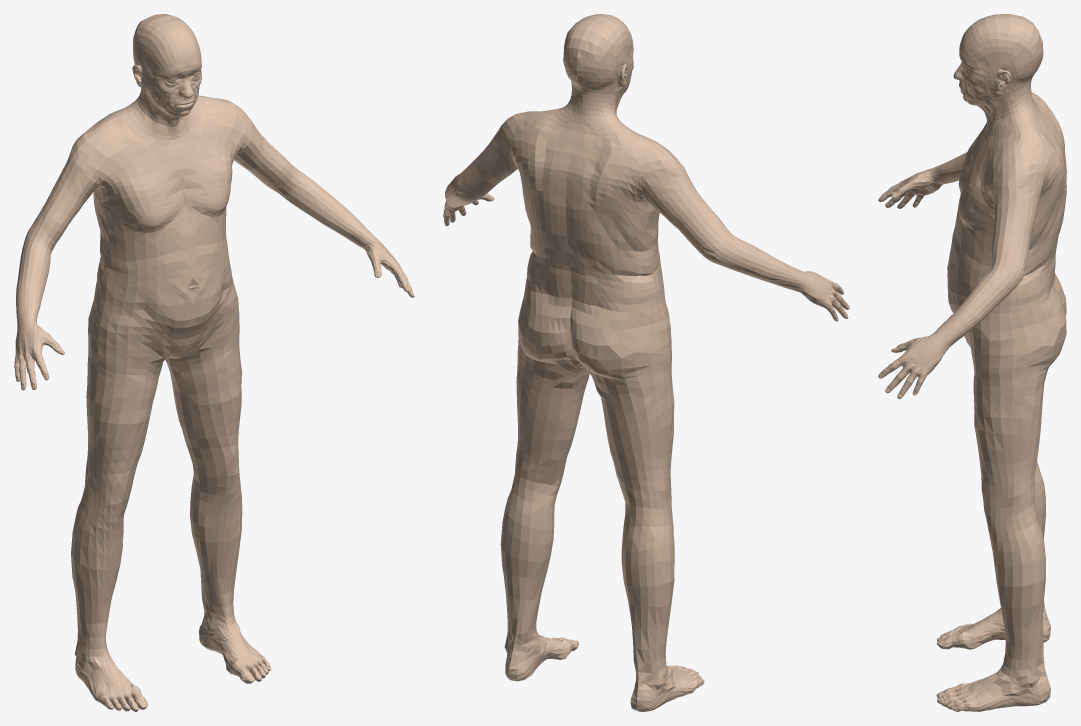
File: male-elder-heavy-toned.glb
3 views of the same model, side by side, from view 1: azimuth 30°, elevation 25°; view 2: azimuth 150°, elevation 25°; view 3: azimuth 270°, elevation 25° (orthographic).
Parts seen in each view (by area): view 1: world; view 2: world; view 3: world.
Boxes of the visible parts, <box> form: world: <box>14,14,414,711</box>; world: <box>443,14,849,711</box>; world: <box>878,14,1066,711</box>.
Bounding box in the file's own units: 1.2 × 1.92 × 0.5005.
